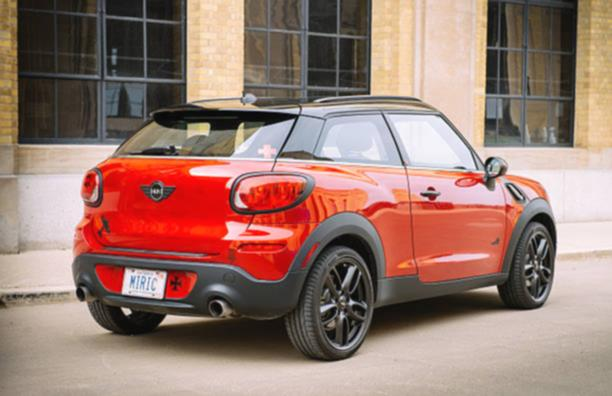mini: (133, 176, 183, 210)
